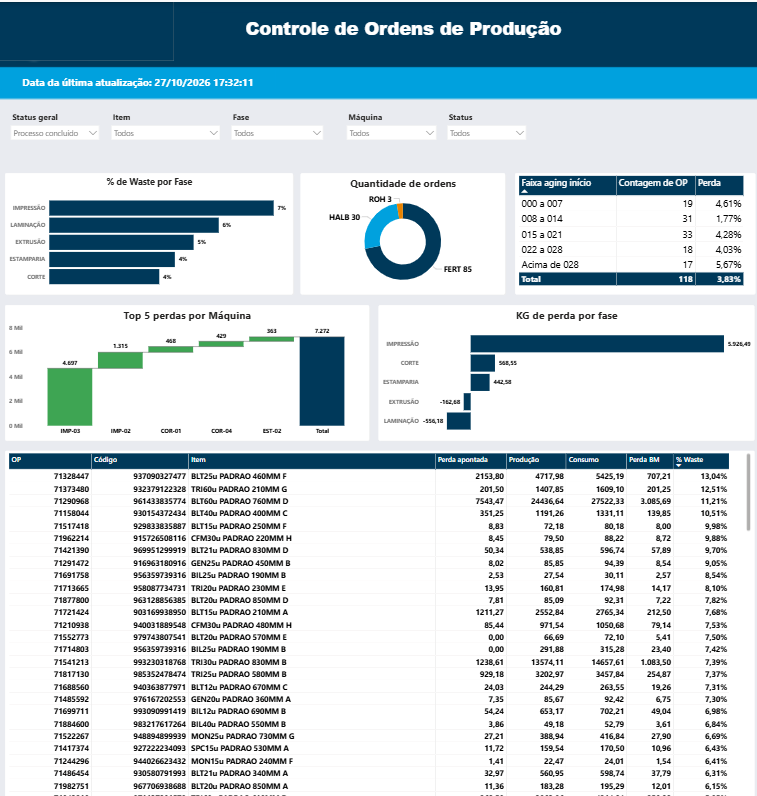

Layout of this report page (visuals, bound fields, positions):
{"tool":"powerbi","page":{"name":"Ordens Abertas","canvas":[1600,1679],"ordinal":0},"visuals":[{"type":"slicer","fields":{"Values":["COOIS.Status geral"]},"box":[13.3,223.3,210,95],"z":0},{"type":"slicer","fields":{"Values":["Máquinas.Maq"]},"box":[718.3,223.3,212.5,95],"z":1000},{"type":"slicer","fields":{"Values":["COOIS.Fase"]},"box":[475.8,223.3,217.5,95],"z":2000},{"type":"clusteredBarChart","title":" % de Waste por Fase","fields":{"Category":["COOIS.Fase"],"Y":["Avg(COOIS.% Waste)"]},"box":[13.3,358.3,605,255],"z":3000},{"type":"tableEx","fields":{"Values":["COOIS.Faixa aging início","CountNonNull(COOIS.OP)","Medidas.PERDA"]},"box":[1083.3,358.3,505,255],"z":4000},{"type":"clusteredBarChart","title":"KG de perda por fase","fields":{"Category":["COOIS.Fase"],"Y":["Sum(COOIS.Perda BM)"]},"box":[798.3,635.8,790,285],"z":5000},{"type":"waterfallChart","title":"Top 5 perdas por Máquina","fields":{"Category":["Máquinas.Maq"],"Y":["Sum(COOIS.Perda BM)"]},"box":[13.3,635.8,765,285],"z":6000},{"type":"donutChart","title":"Quantidade de ordens ","fields":{"Category":["COOIS.Classificacao"],"Y":["CountNonNull(COOIS.Classificacao)"]},"box":[633.3,358.3,430,255],"z":7000},{"type":"textbox","box":[422.5,22.5,855,100],"z":8000},{"type":"tableEx","fields":{"Values":["COOIS.OP","COOIS.Código","COOIS.Item","COOIS.Perda apontada","COOIS.Produção","COOIS.Consumo ","COOIS.Perda BM","COOIS.% Waste"]},"box":[12.5,942.5,1575,737.5],"z":9000},{"type":"slicer","fields":{"Values":["COOIS.Item"]},"box":[223.3,223.3,252.5,95],"z":10000},{"type":"slicer","fields":{"Values":["COOIS.Status Simplificado"]},"box":[930.8,223.3,190,95],"z":11000},{"type":"cardVisual","title":"Data da última atualização","fields":{"Data":["Medidas.Data Ultima Atualizacao Texto"]},"box":[0,141.9,582.5,43],"z":12000},{"type":"shape","box":[0,0,366.7,122.8],"z":13000}]}

Visuals, with their boxes in screenshot pixels (x1, y1, x2, y2), scaled from the page's 1600x1679 canvas onto the 757x796 screenshot:
slicer - COOIS.Status geral: Rect(6, 106, 106, 151)
slicer - Máquinas.Maq: Rect(340, 106, 440, 151)
slicer - COOIS.Fase: Rect(225, 106, 328, 151)
" % de Waste por Fase" clusteredBarChart: Rect(6, 170, 293, 291)
tableEx - COOIS.Faixa aging início x CountNonNull(COOIS.OP): Rect(513, 170, 751, 291)
"KG de perda por fase" clusteredBarChart: Rect(378, 301, 751, 437)
"Top 5 perdas por Máquina" waterfallChart: Rect(6, 301, 368, 437)
"Quantidade de ordens " donutChart: Rect(300, 170, 503, 291)
textbox: Rect(200, 11, 604, 58)
tableEx - COOIS.OP x COOIS.Código: Rect(6, 447, 751, 795)
slicer - COOIS.Item: Rect(106, 106, 225, 151)
slicer - COOIS.Status Simplificado: Rect(440, 106, 530, 151)
"Data da última atualização" cardVisual: Rect(0, 67, 276, 88)
shape: Rect(0, 0, 173, 58)
